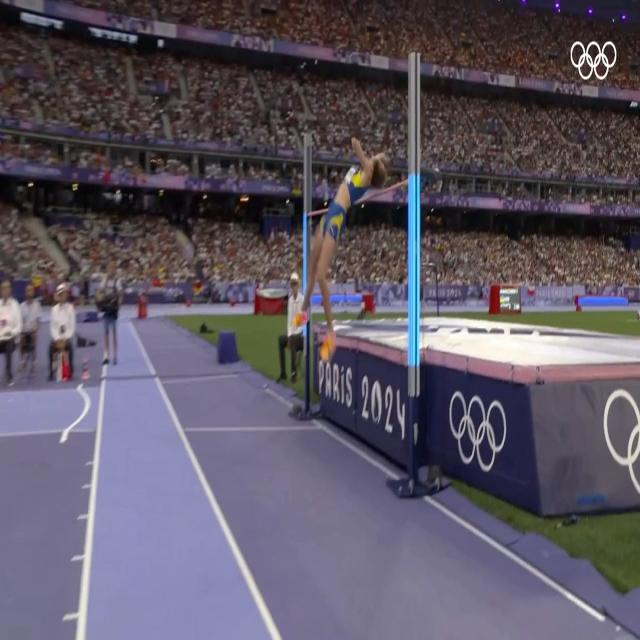jump: (291, 138, 389, 361)
